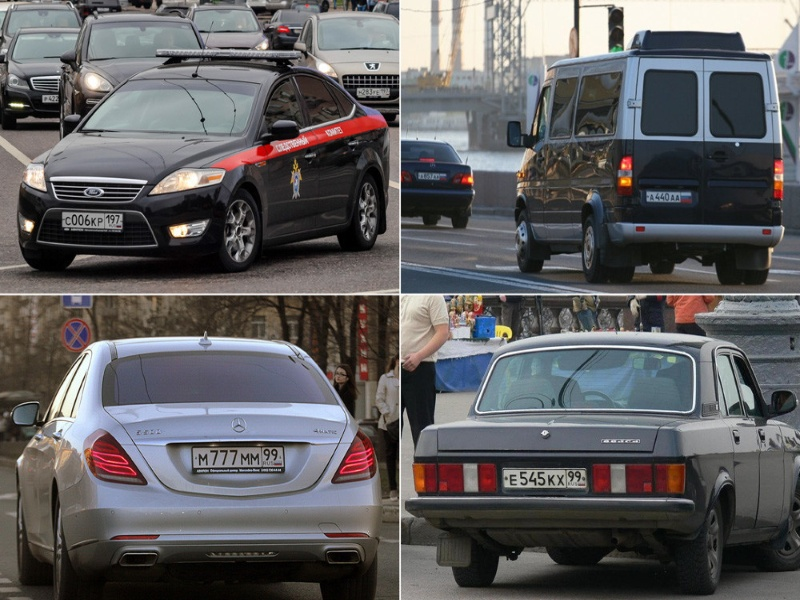car: (405, 332, 800, 595), (11, 335, 383, 600), (17, 49, 391, 269), (507, 30, 784, 285), (60, 14, 205, 138), (294, 12, 399, 123), (2, 28, 81, 129), (402, 137, 474, 228), (1, 4, 82, 52), (185, 5, 270, 49), (263, 9, 313, 50)
person: (400, 294, 452, 449), (374, 353, 398, 501), (334, 364, 357, 419)
plate: (193, 444, 283, 475), (502, 467, 585, 488), (61, 212, 122, 232), (645, 190, 692, 203), (357, 87, 390, 98), (417, 172, 446, 180), (41, 94, 58, 103)
